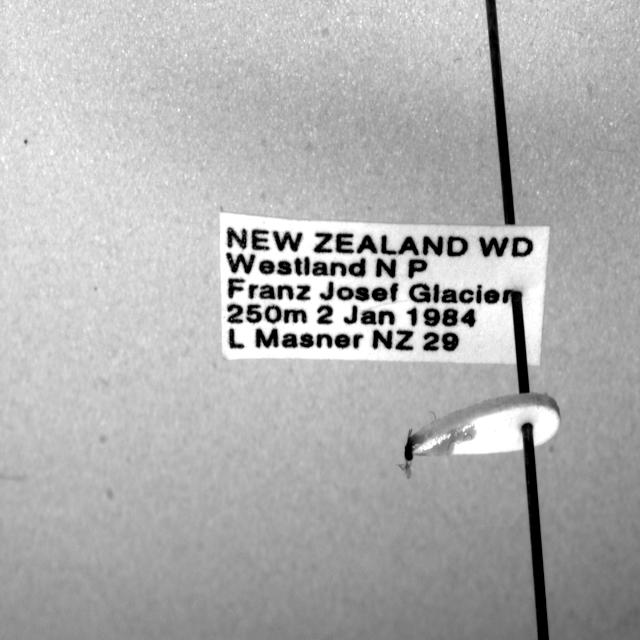typed_label: (220, 212, 550, 364)
